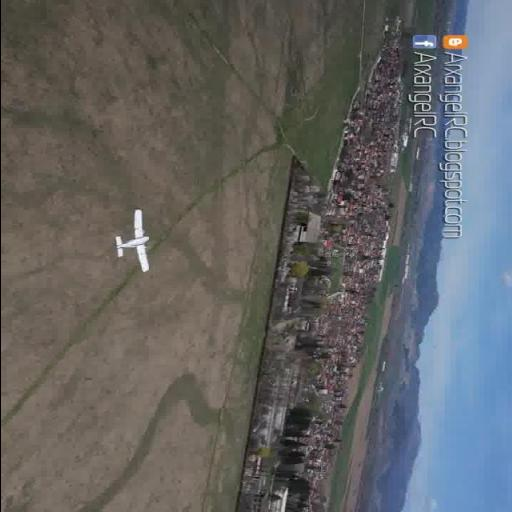uav: (108, 208, 156, 274)
